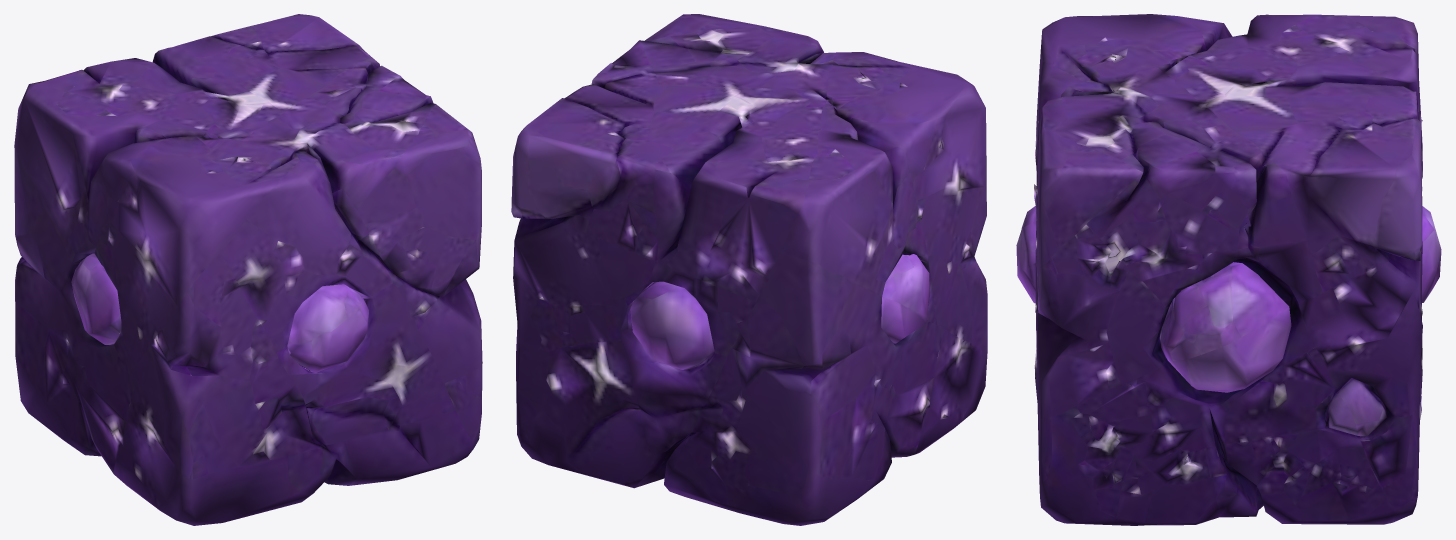
File: star_jewel.glb
The picture shows the model from 3 angles, left to right: view 1: azimuth 30°, elevation 25°; view 2: azimuth 150°, elevation 25°; view 3: azimuth 270°, elevation 25°; orthographic projection. The views are drawn at different scales.
Parts seen in each view (by area): view 1: tripo_node_76232aae-3190-4be4-8fc0-67db05435844; view 2: tripo_node_76232aae-3190-4be4-8fc0-67db05435844; view 3: tripo_node_76232aae-3190-4be4-8fc0-67db05435844.
Boxes of the visible parts, x1=… form: tripo_node_76232aae-3190-4be4-8fc0-67db05435844: x1=14, y1=14, x2=482, y2=525; tripo_node_76232aae-3190-4be4-8fc0-67db05435844: x1=511, y1=14, x2=987, y2=525; tripo_node_76232aae-3190-4be4-8fc0-67db05435844: x1=1016, y1=14, x2=1441, y2=525.
Bounding box in the file's own units: 0.9793 × 0.8988 × 0.9508.
Materials: 1 (1 with a texture image).
